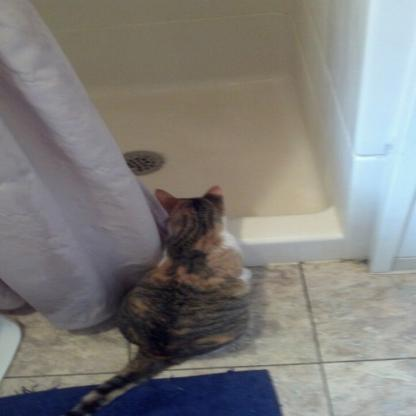Target: (60, 190, 271, 414)
